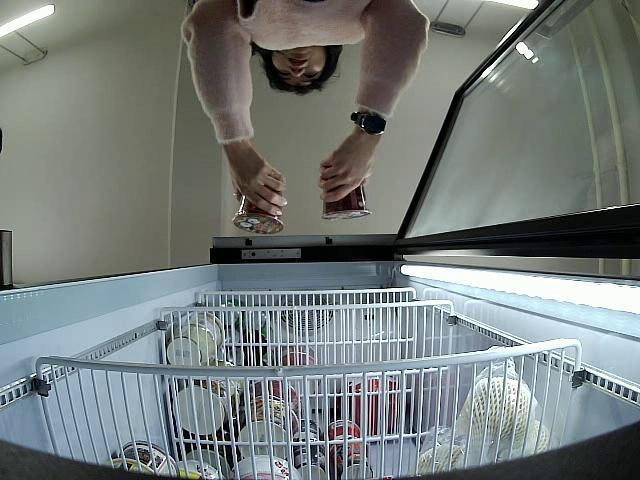06_nuguri_S: (318, 158, 372, 220), (231, 183, 283, 234)
